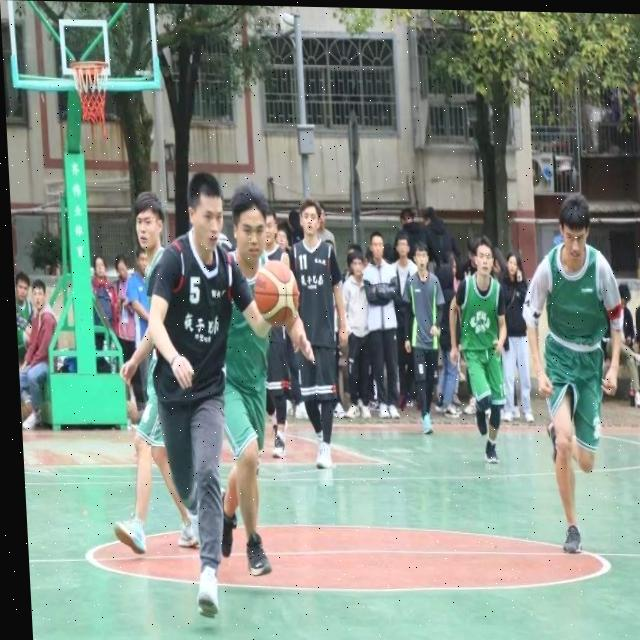basketball: (253, 259, 301, 330)
hoop: (68, 59, 114, 139)
